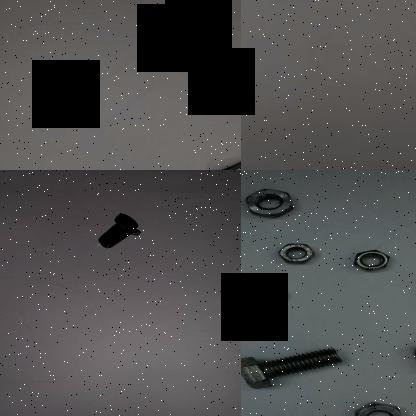Bolts: (241, 340, 349, 397), (241, 276, 290, 310), (95, 223, 144, 249), (199, 158, 241, 170)
NUTS: (241, 178, 298, 224), (344, 248, 394, 274), (270, 242, 320, 266), (346, 400, 409, 416)
